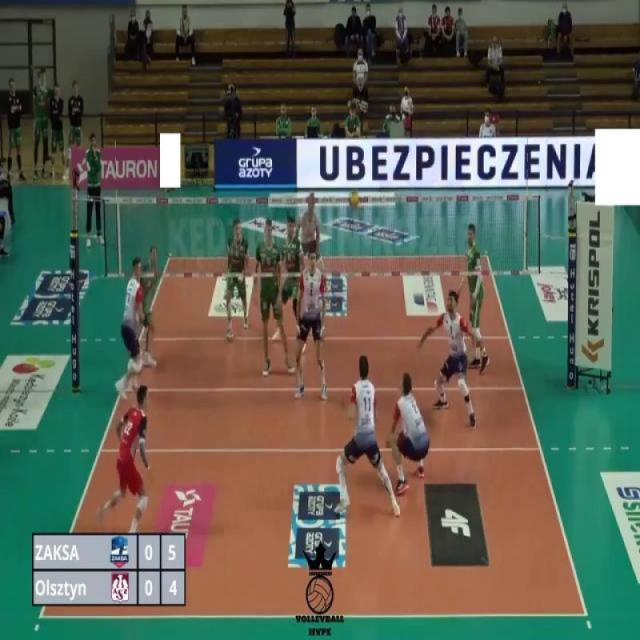volleyball: (348, 190, 360, 210)
